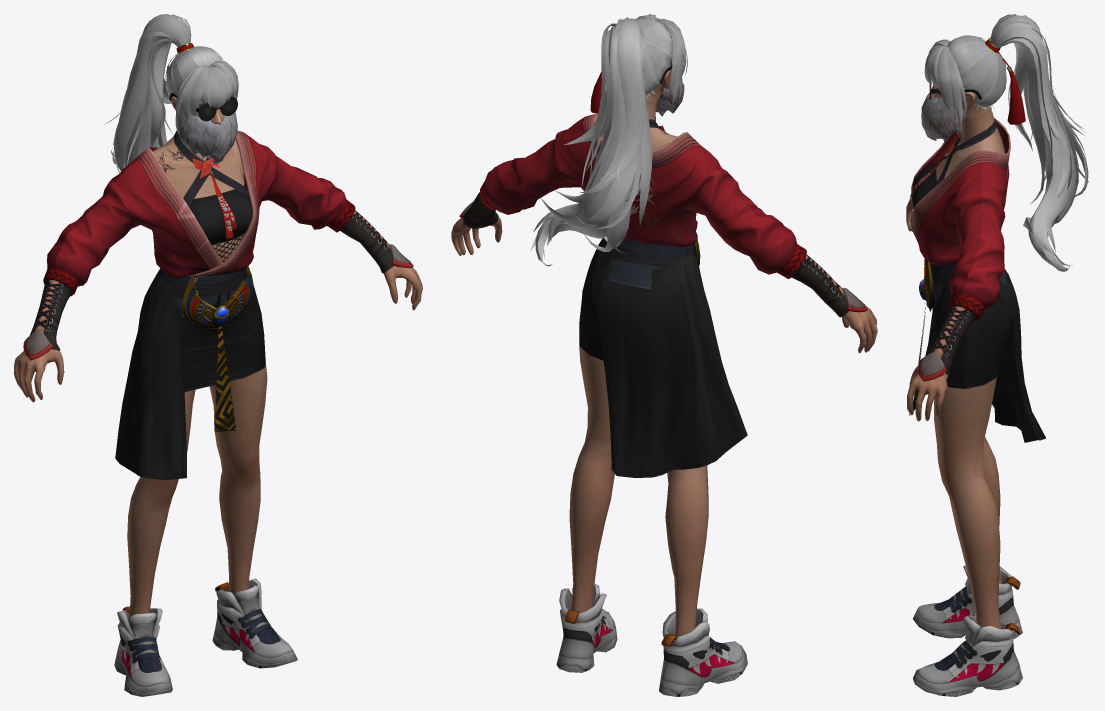
Rendered from matah bee.glb.
3 views of the same model, side by side, from view 1: azimuth 30°, elevation 25°; view 2: azimuth 150°, elevation 25°; view 3: azimuth 270°, elevation 25° (orthographic). The views are drawn at different scales.
Parts seen in each view (by area): view 1: matah bee; view 2: matah bee; view 3: matah bee.
Part boxes in pixels (bbox=[...]): matah bee: bbox=[14, 14, 422, 696]; matah bee: bbox=[451, 14, 877, 696]; matah bee: bbox=[906, 14, 1089, 696].
Size of the model in its own units: 0.6015 by 0.9186 by 0.2401.
10 materials, 10 textured.
